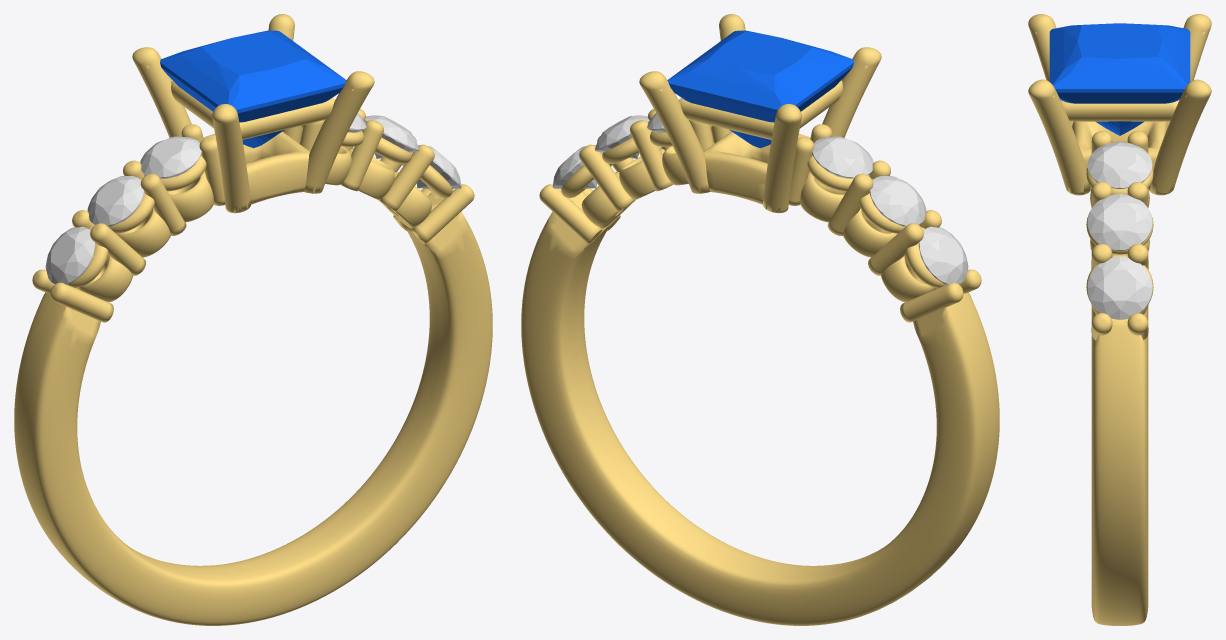
Rendered from bluesapphire-princess-yellowgold-4prong-straightband-7stone.glb.
3 views of the same model, side by side, from view 1: azimuth 30°, elevation 25°; view 2: azimuth 150°, elevation 25°; view 3: azimuth 270°, elevation 25° (orthographic).
Visible parts, largest first — view 1: metal, stone, side, side.001, side.002, side.004, side.005; view 2: metal, stone, side, side.001, side.002, side.004, side.005; view 3: metal, stone, side.005, side.004, side.003.
Boxes of the visible parts, x1,y1,x2,y2 form: metal: [14, 14, 492, 625]; stone: [160, 30, 346, 148]; side: [45, 226, 95, 284]; side.001: [87, 176, 144, 226]; side.002: [140, 136, 201, 178]; side.004: [364, 115, 419, 158]; side.005: [416, 145, 461, 188]; metal: [521, 14, 999, 625]; stone: [667, 30, 853, 148]; side: [918, 226, 968, 284]; side.001: [869, 176, 926, 226]; side.002: [812, 136, 873, 178]; side.004: [594, 115, 649, 158]; side.005: [552, 145, 597, 188]; metal: [1028, 14, 1211, 625]; stone: [1049, 23, 1190, 135]; side.005: [1087, 256, 1152, 319]; side.004: [1087, 194, 1152, 250]; side.003: [1087, 142, 1152, 188].
Size of the model in its own units: 20.51 by 23.85 by 7.08.
